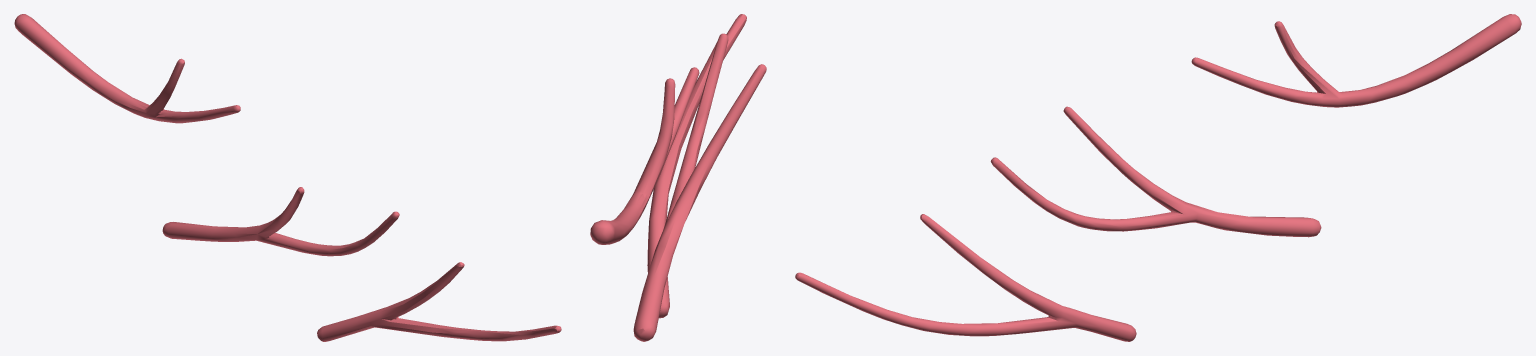
The model's file is fma49709_fj5076.glb.
3 views of the same model, side by side, from view 1: azimuth 30°, elevation 25°; view 2: azimuth 150°, elevation 25°; view 3: azimuth 270°, elevation 25° (orthographic). The views are drawn at different scales.
Parts seen in each view (by area): view 1: FMA49709_FJ5076; view 2: FMA49709_FJ5076; view 3: FMA49709_FJ5076.
Boxes of the visible parts, x1,y1,x2,y2 form: FMA49709_FJ5076: (14,14,561,341); FMA49709_FJ5076: (590,14,766,341); FMA49709_FJ5076: (795,14,1521,341).
Bounding box in the file's own units: 0.0158 × 0.0167 × 0.0395.
